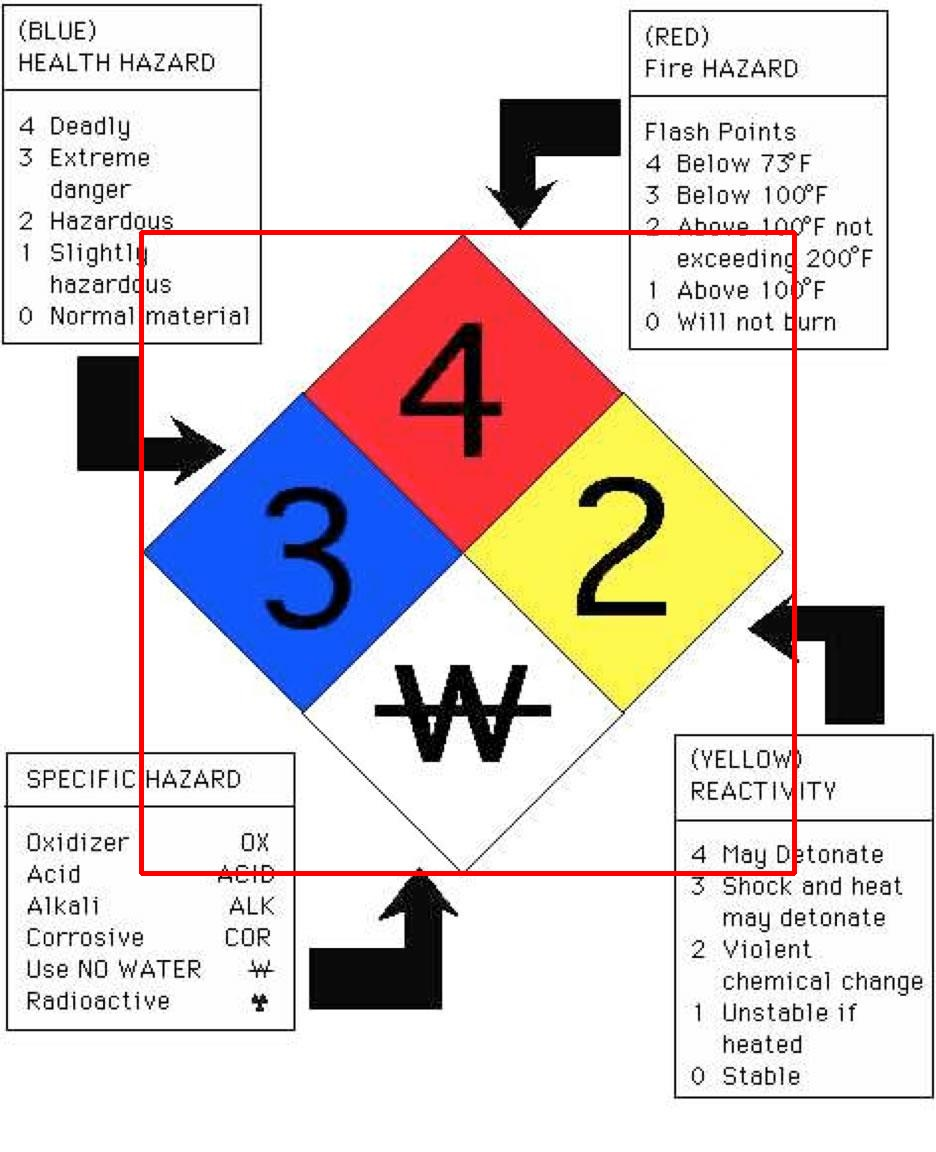nfpa: (141, 232, 794, 873)
